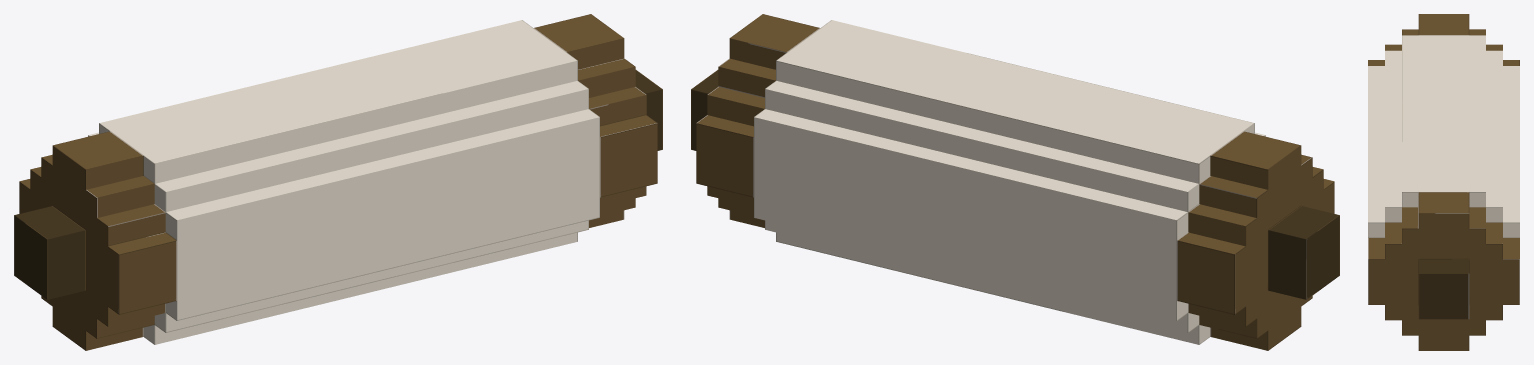
Rendered from Closescroll.obj.
The picture shows the model from 3 angles, left to right: view 1: azimuth 30°, elevation 25°; view 2: azimuth 150°, elevation 25°; view 3: azimuth 270°, elevation 25°; orthographic projection. The views are drawn at different scales.
Parts seen in each view (by area): view 1: Closescroll; view 2: Closescroll; view 3: Closescroll.
Boxes of the visible parts, left/top/right/bottom form: Closescroll: left=14, top=14, right=662, bottom=350; Closescroll: left=691, top=14, right=1339, bottom=350; Closescroll: left=1368, top=14, right=1519, bottom=350.
Bounding box in the file's own units: 3.2 × 0.9 × 0.9.
1 material, 1 textured.
